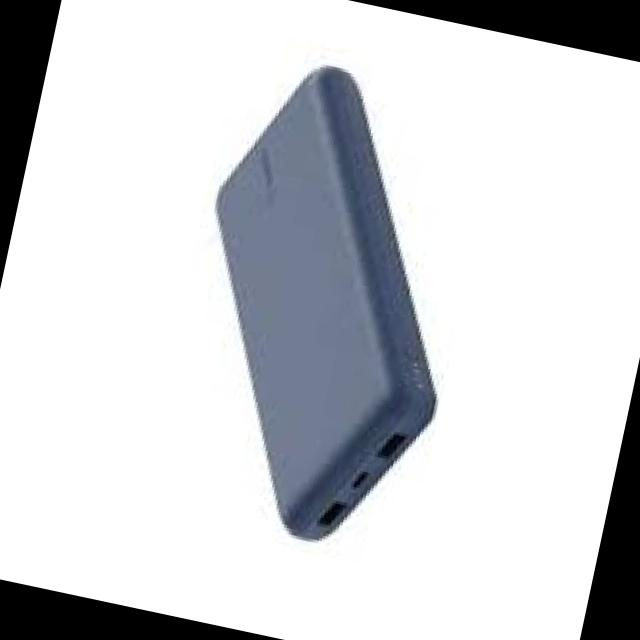portable-charger: (142, 41, 506, 568)
